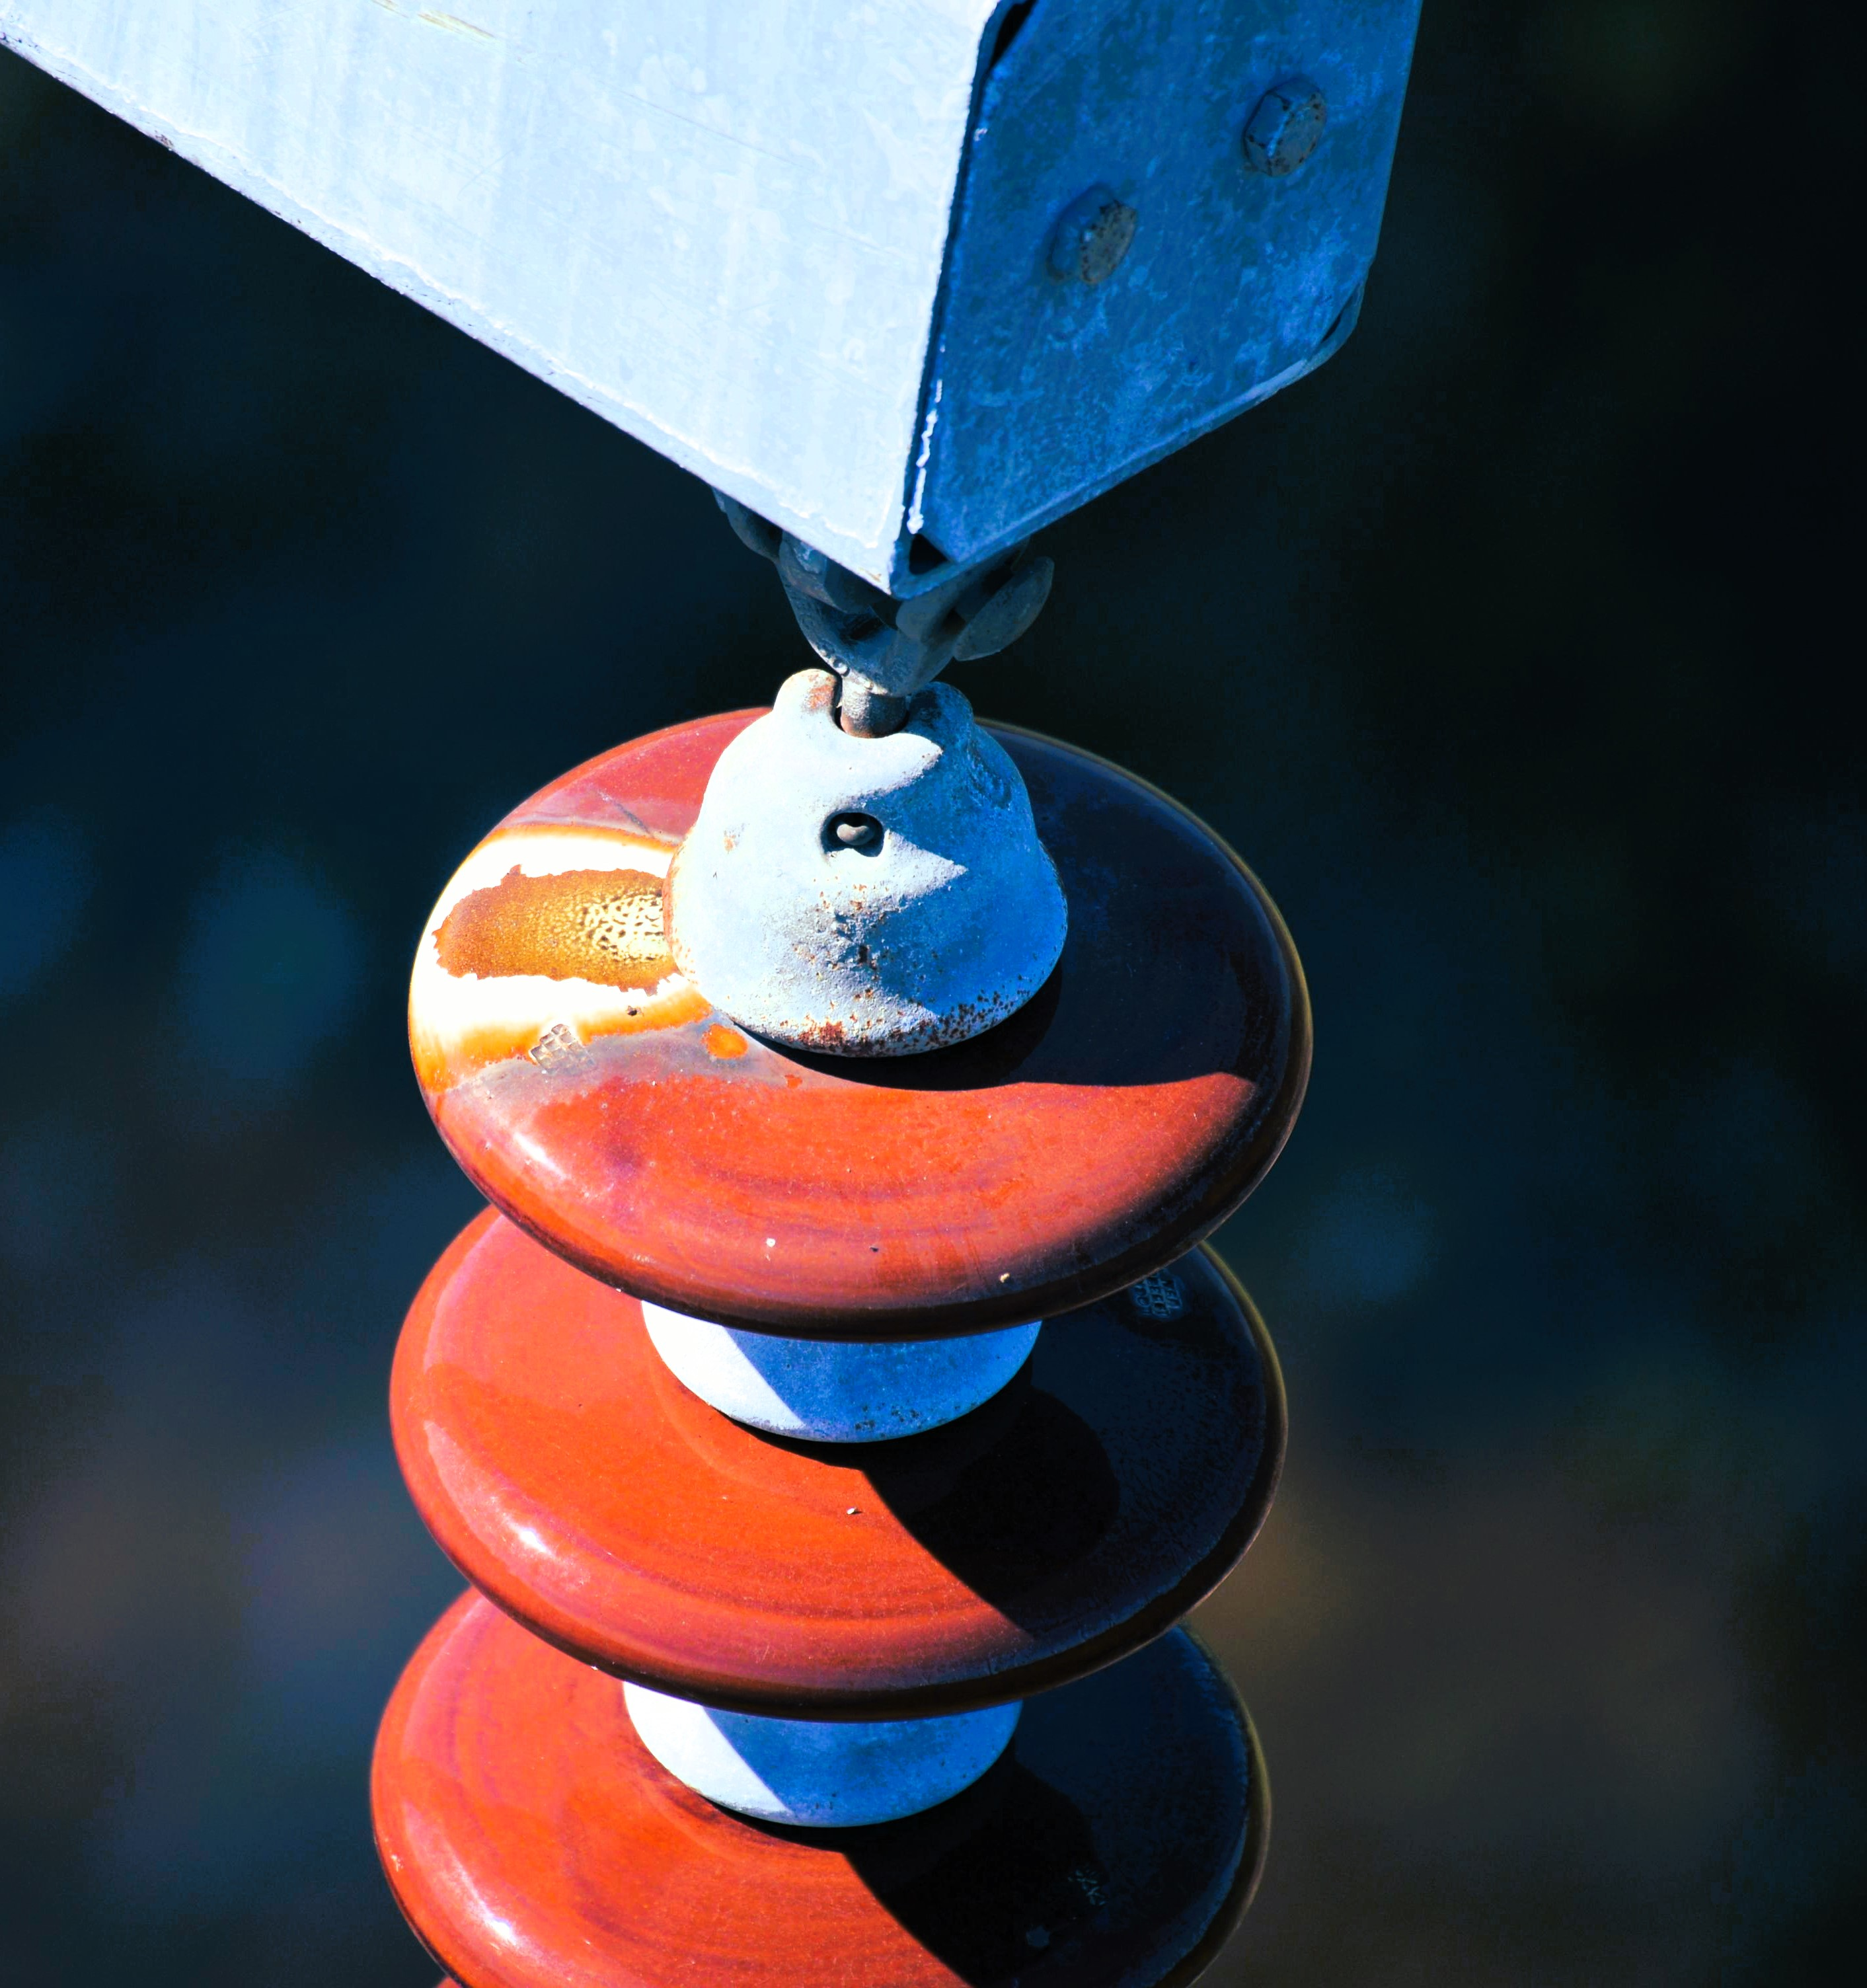Insulator flashover: (381, 695, 1323, 1351)
